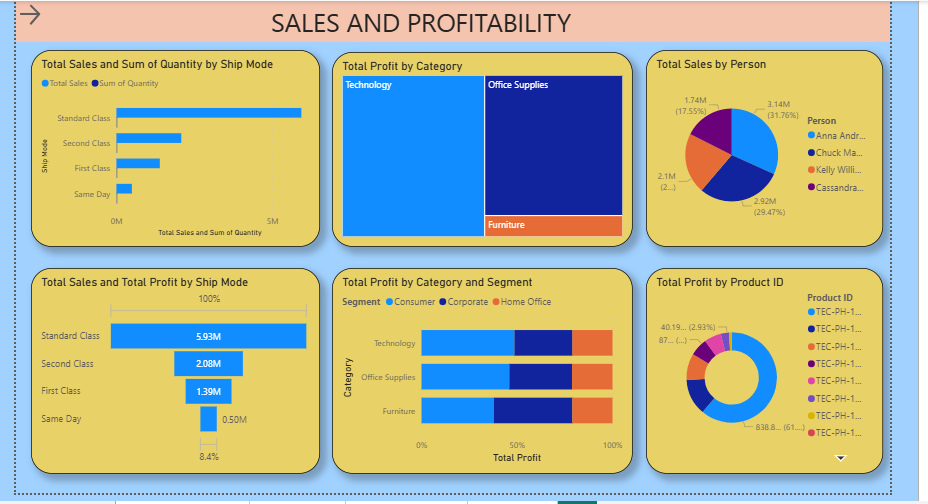

This screenshot's page, from the dashboard's own definition file:
{"tool":"powerbi","page":{"name":"SAL/PROF","canvas":[1280,720],"ordinal":1},"visuals":[{"type":"clusteredBarChart","fields":{"Y":["Orders.Total Sales","Sum(Orders.Quantity)"],"Category":["Orders.Ship Mode"]},"box":[22,71.7,422.9,288.3],"z":0},{"type":"treemap","fields":{"Values":["Orders.Total Profit"],"Group":["Orders.Category"]},"box":[462.4,74.6,440.5,285.4],"z":1000},{"type":"donutChart","fields":{"Y":["Orders.Total Profit"],"Category":["Orders.Product ID"]},"box":[922,390.7,346.8,301.5],"z":2000},{"type":"hundredPercentStackedBarChart","fields":{"Y":["Orders.Total Profit"],"Category":["Orders.Category"],"Series":["Orders.Segment"]},"box":[462.4,390.7,440.5,301.5],"z":3000},{"type":"textbox","box":[0,0,1280,60],"z":4000},{"type":"pieChart","fields":{"Category":["People.Person"],"Y":["Orders.Total Sales"]},"box":[922,71.7,346.8,288.3],"z":6000},{"type":"funnel","fields":{"Category":["Orders.Ship Mode"],"Y":["Orders.Total Sales"]},"box":[22,390.7,422.9,301.5],"z":7000},{"type":"actionButton","box":[0,0,100,40],"z":7001}]}

Visuals, with their boxes on the page's 1280x720 design canvas (x1, y1, x2, y2). These are canvas units, not pixel positions in the 928x504 screenshot, which may show the page scaled, cropped or inside an application window:
clusteredBarChart - Orders.Total Sales x Sum(Orders.Quantity): 22/72/445/360
treemap - Orders.Total Profit x Orders.Category: 462/75/903/360
donutChart - Orders.Total Profit x Orders.Product ID: 922/391/1269/692
hundredPercentStackedBarChart - Orders.Total Profit x Orders.Category: 462/391/903/692
textbox: 0/0/1280/60
pieChart - People.Person x Orders.Total Sales: 922/72/1269/360
funnel - Orders.Ship Mode x Orders.Total Sales: 22/391/445/692
actionButton: 0/0/100/40
